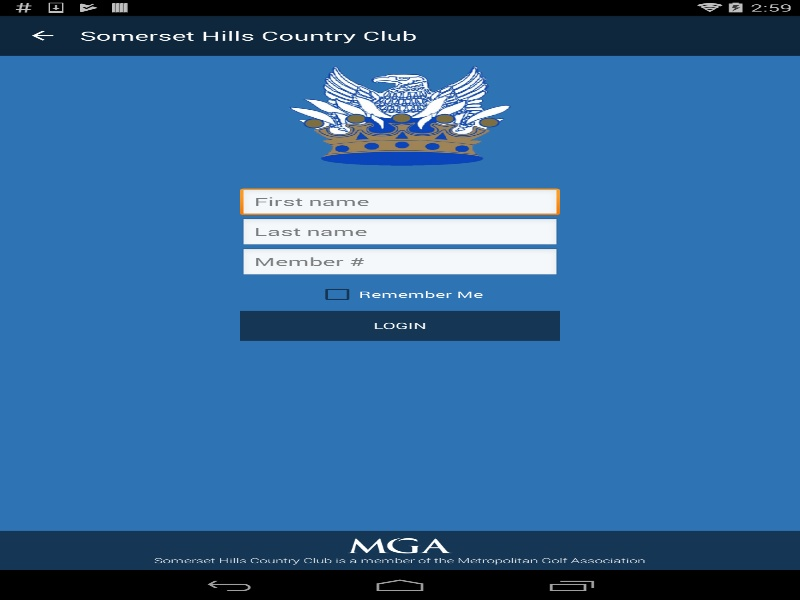Button: (240, 310, 560, 340), (0, 18, 74, 53)
Input: (240, 188, 560, 218), (240, 218, 560, 248), (240, 248, 560, 278)
